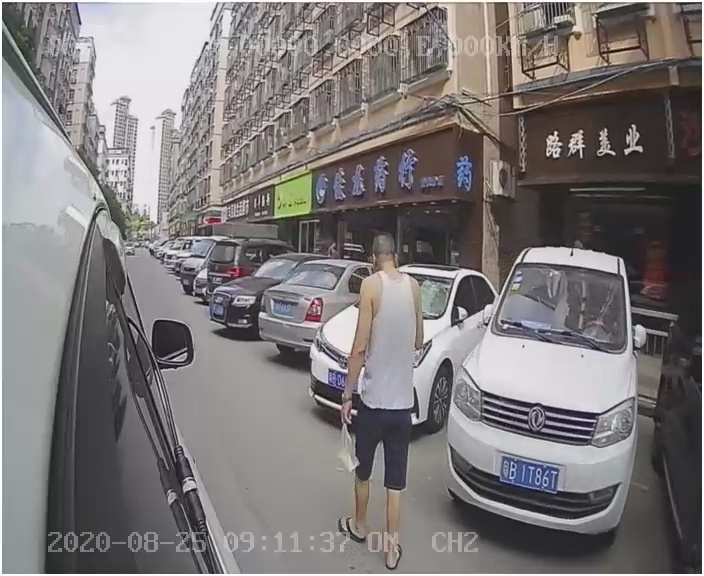person: (334, 239, 447, 540)
